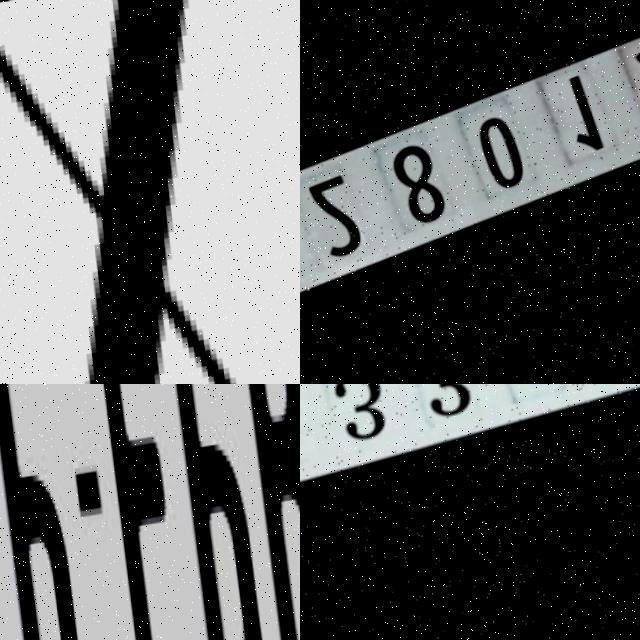0: (452, 111, 535, 215), (486, 384, 563, 416)
1: (529, 72, 618, 183)
2: (300, 168, 374, 281)
3: (314, 384, 396, 466), (398, 384, 483, 444), (613, 38, 640, 144)
8: (366, 135, 460, 252)
B: (221, 384, 300, 640)
E: (84, 384, 204, 640)
P: (146, 384, 268, 640), (0, 384, 89, 640)
X: (0, 0, 300, 384)
